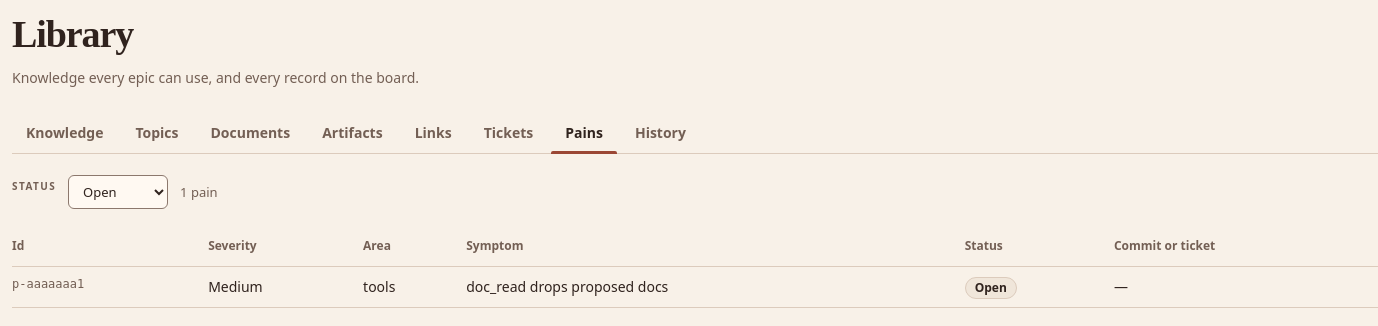
Test: Pains view › filters by status and links a fixed pain to its commit and a ticketed pain to its ticket
Expected: the table with test id "pains-table" is shown, [12, 226, 1377, 308]
Select "Fixed" in the dropdown with test id "pains-status" at (118, 192), box [68, 175, 168, 209]
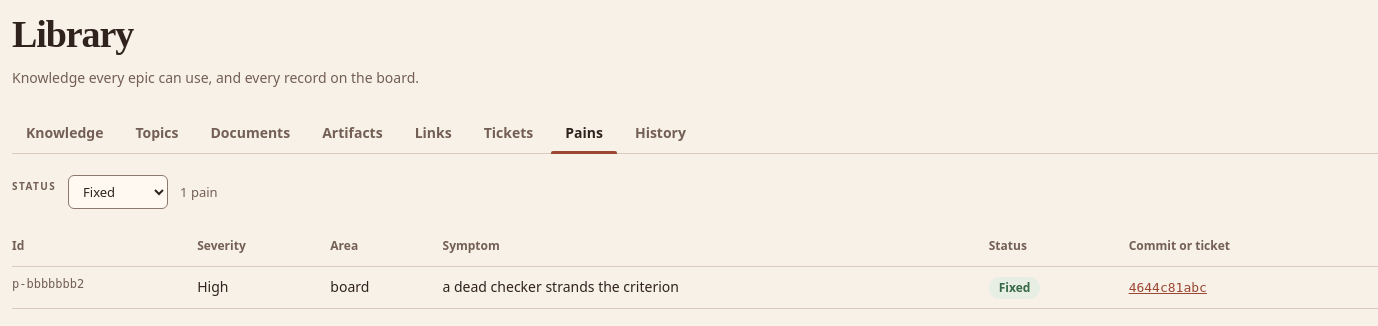
Expected: the link with aria-label "commit 4644c81abc" reads "4644c81abc", [1129, 280, 1207, 295]
Expected: the text "doc_read drops proposed docs" is gone
Select "Ticketed" in the dropdown with test id "pains-status" at (118, 192), box [68, 175, 168, 209]
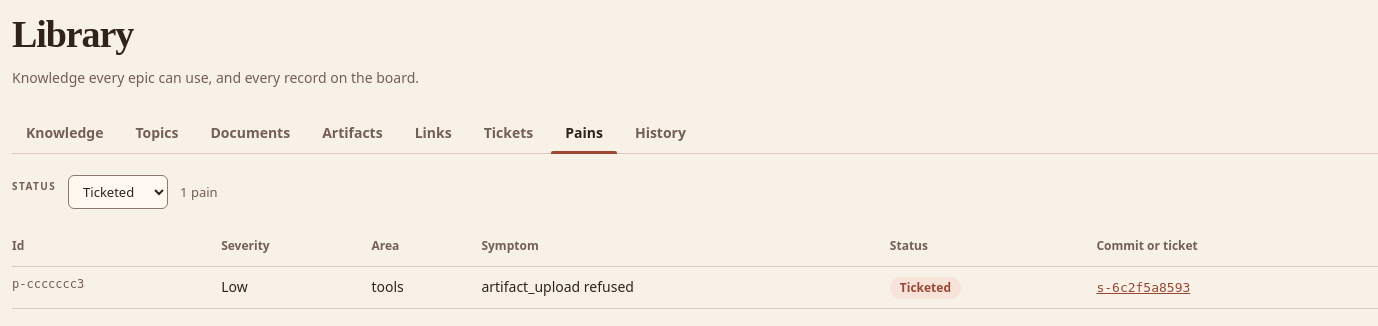
Expected: the text with test id "pain-status" reads "Ticketed", [900, 279, 951, 296]
